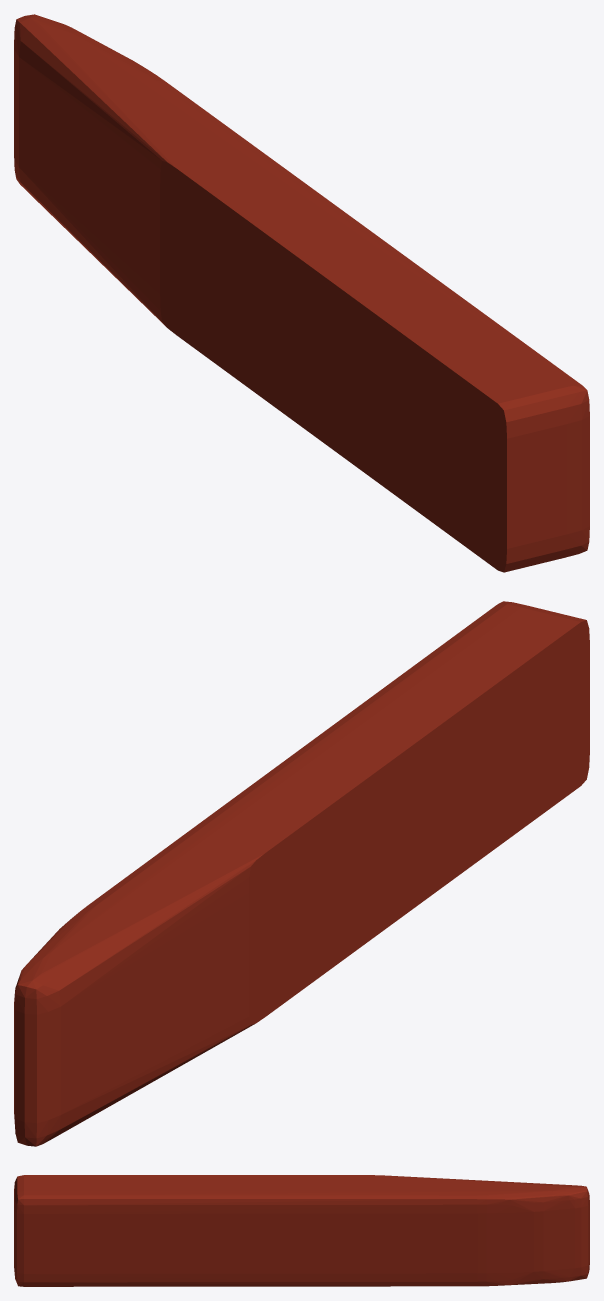
The model's file is left_hip_pitch_link_part_15.obj.
The picture shows the model from 3 angles, top to bottom: view 1: azimuth 30°, elevation 25°; view 2: azimuth 150°, elevation 25°; view 3: azimuth 270°, elevation 25°; orthographic projection. The views are drawn at different scales.
Size of the model in its own units: 0.00964 by 0.0173 by 0.0999.
